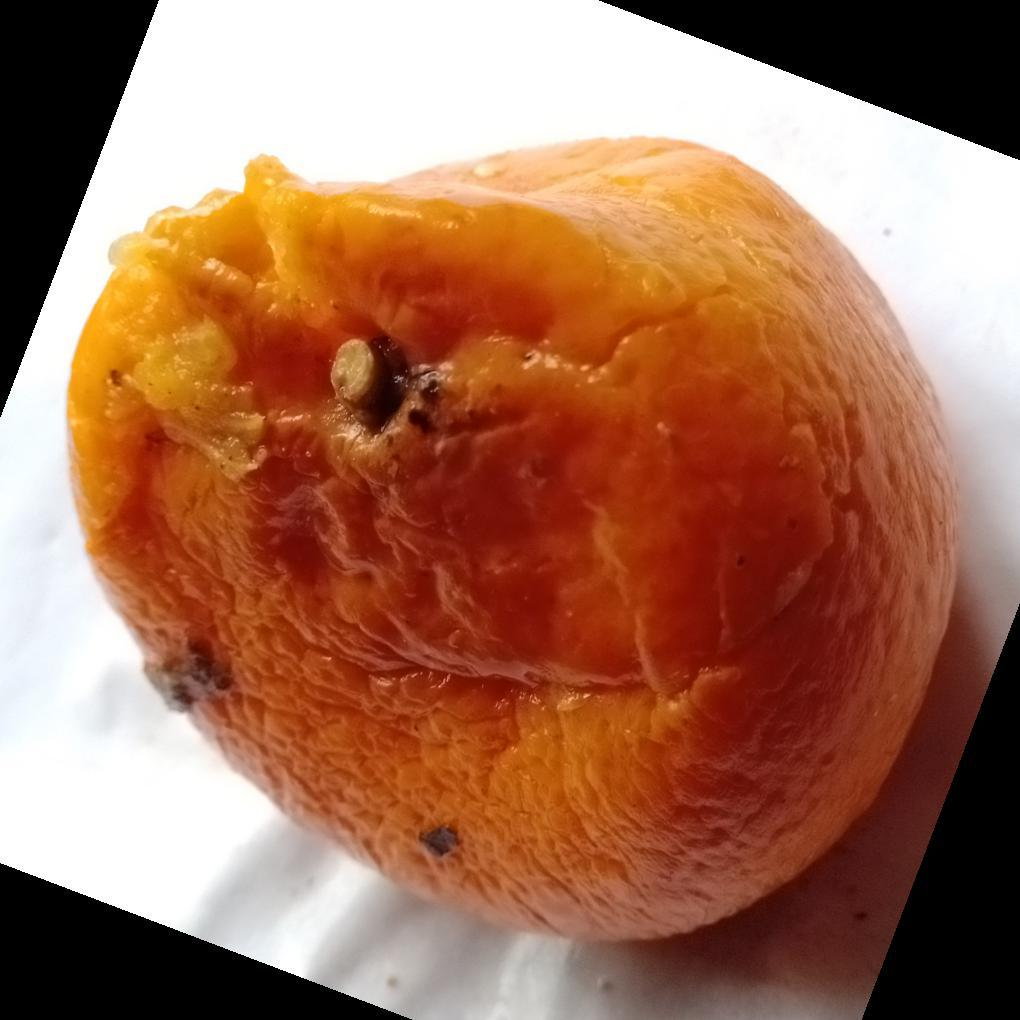FreshOrange: (61, 135, 961, 949)
